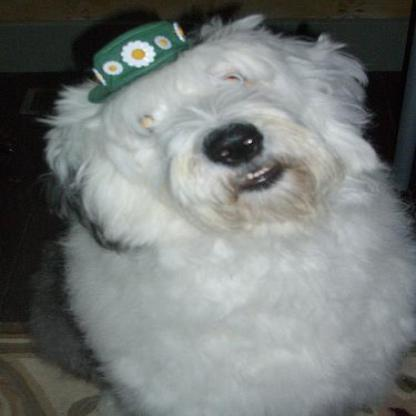Old_English_sheepdog: (24, 10, 413, 413)
